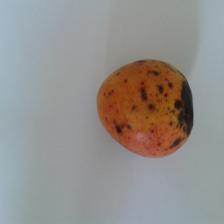Mango Semirotten: (93, 56, 197, 162)
